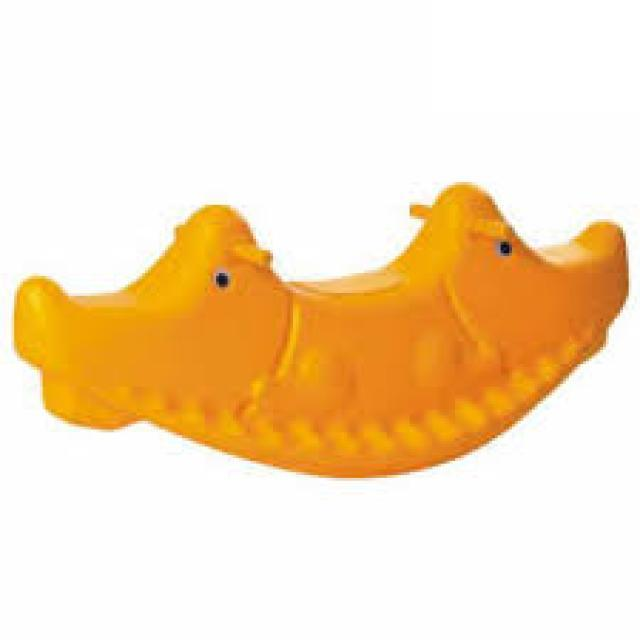hard-toy: (16, 185, 629, 477)
